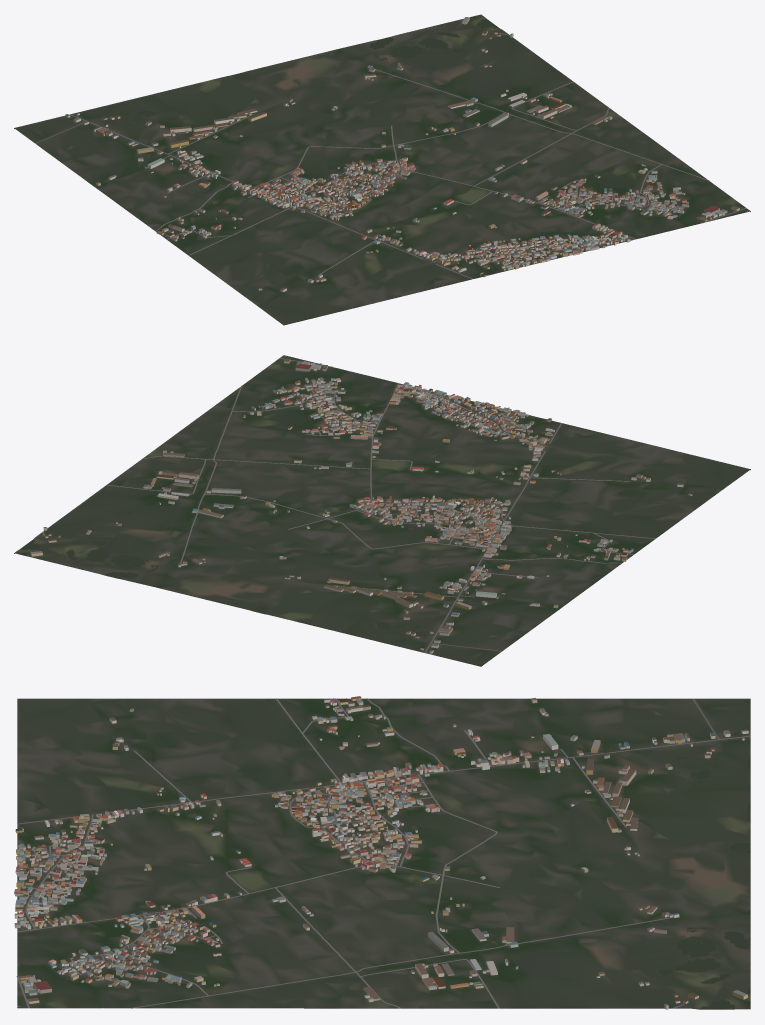
3 renders of one model, top to bottom at view 1: azimuth 30°, elevation 25°; view 2: azimuth 150°, elevation 25°; view 3: azimuth 270°, elevation 25°, orthographic. The views are drawn at different scales.
Parts seen in each view (by area): view 1: ground, buildings, roads, water; view 2: ground, buildings, roads, water; view 3: ground, buildings, roads, water.
Part boxes in pixels (bbox=[...]): ground: bbox=[14, 14, 750, 325]; buildings: bbox=[65, 17, 739, 292]; roads: bbox=[35, 33, 748, 279]; water: bbox=[126, 19, 498, 126]; ground: bbox=[14, 355, 750, 666]; buildings: bbox=[30, 358, 692, 653]; roads: bbox=[42, 355, 655, 652]; water: bbox=[21, 540, 419, 629]; ground: bbox=[17, 698, 750, 1009]; buildings: bbox=[14, 696, 748, 1009]; roads: bbox=[16, 698, 750, 1008]; water: bbox=[657, 757, 750, 1008].
Bounding box in the file's own units: 1408 × 17.38 × 1409.
